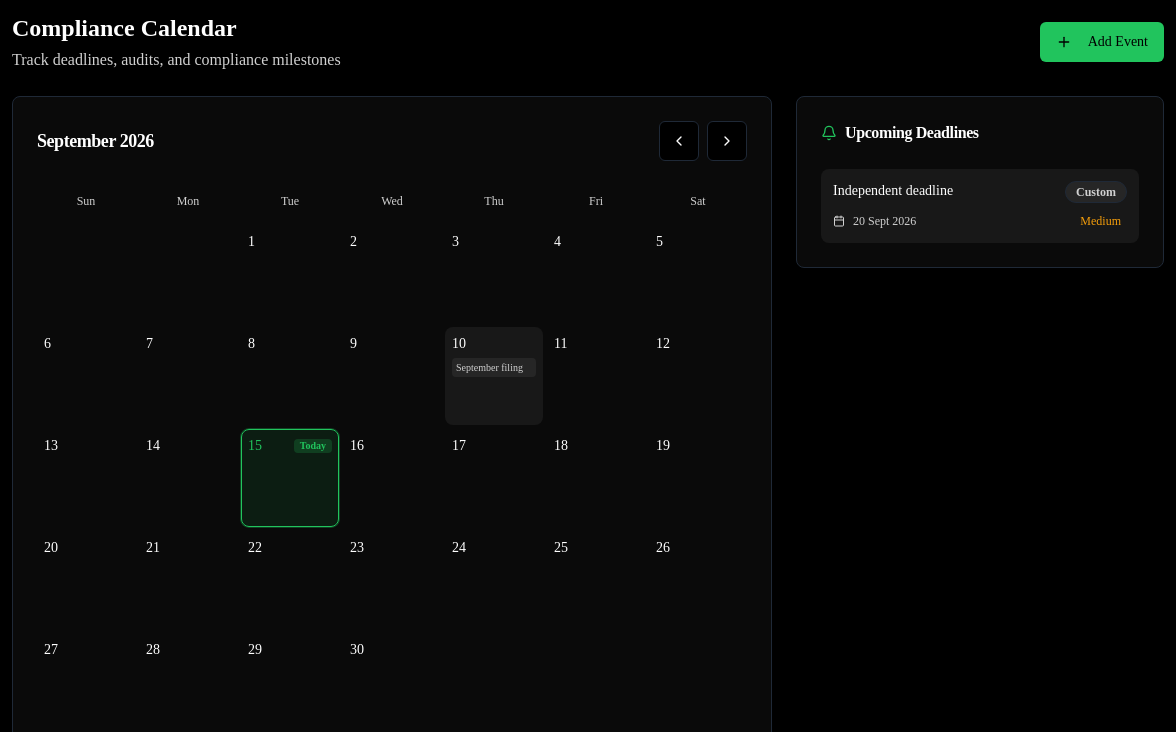
Test: Calendar truthful month transitions › replaces old-month events with stable local loading geometry
The image size is (1176, 732).
Later steps or results of the test are not shown.
Expected: the text "September filing" is shown, x1=452 y1=358 x2=536 y2=377
Expected: the text "Independent deadline" is shown, x1=833 y1=181 x2=953 y2=201
Click the button named "Next month". click: (727, 141)
box: x1=707 y1=121 x2=747 y2=161
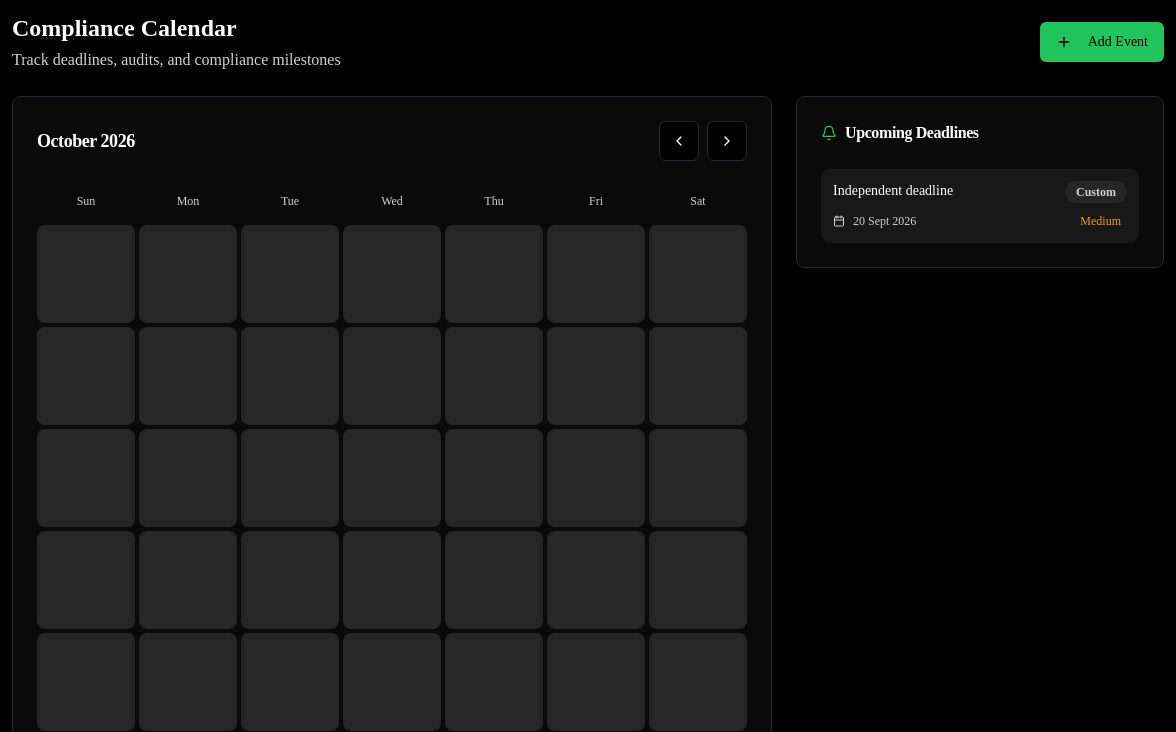
Expected: the text "Independent deadline" is shown, x1=833 y1=181 x2=953 y2=201
Result: the text "October 2026" is shown at x1=37 y1=127 x2=135 y2=155
Result: the text "September filing" is gone
